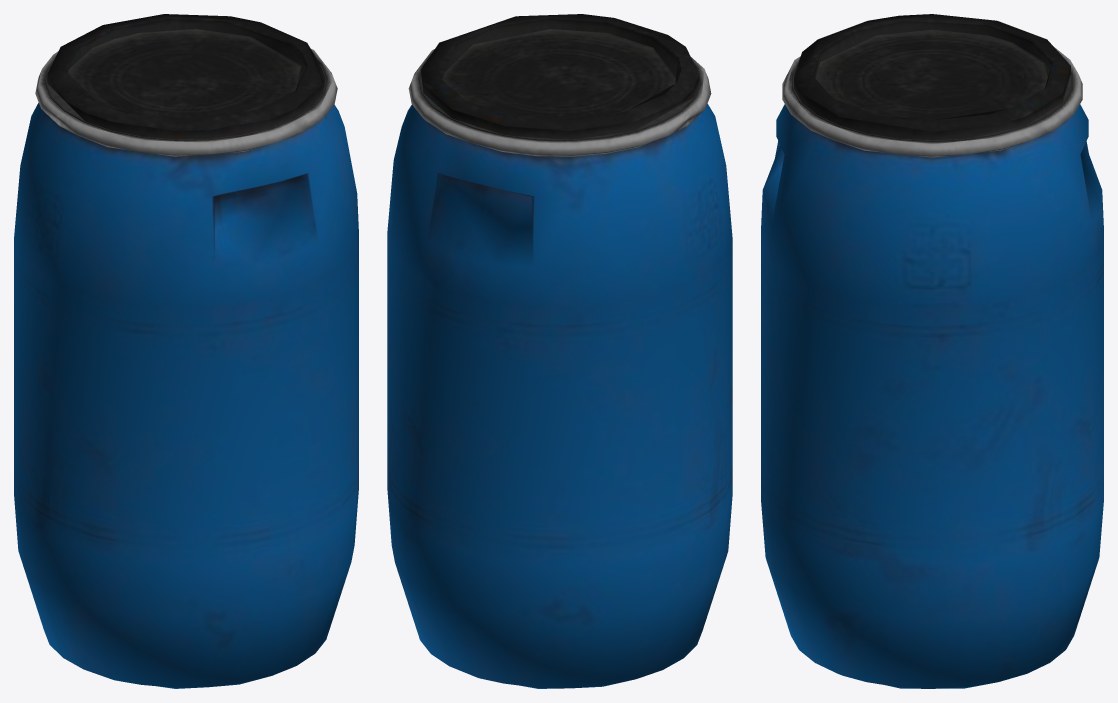
Rendered from barrel_blue.glb.
The picture shows the model from 3 angles, left to right: view 1: azimuth 30°, elevation 25°; view 2: azimuth 150°, elevation 25°; view 3: azimuth 270°, elevation 25°; orthographic projection.
Parts seen in each view (by area): view 1: Barrel_02; view 2: Barrel_02; view 3: Barrel_02.
Boxes of the visible parts, x1,y1,x2,y2 form: Barrel_02: [14, 14, 358, 688]; Barrel_02: [387, 14, 732, 688]; Barrel_02: [761, 14, 1103, 688].
Size of the model in its own units: 0.4882 by 0.88 by 0.4846.
1 material, 1 textured.
